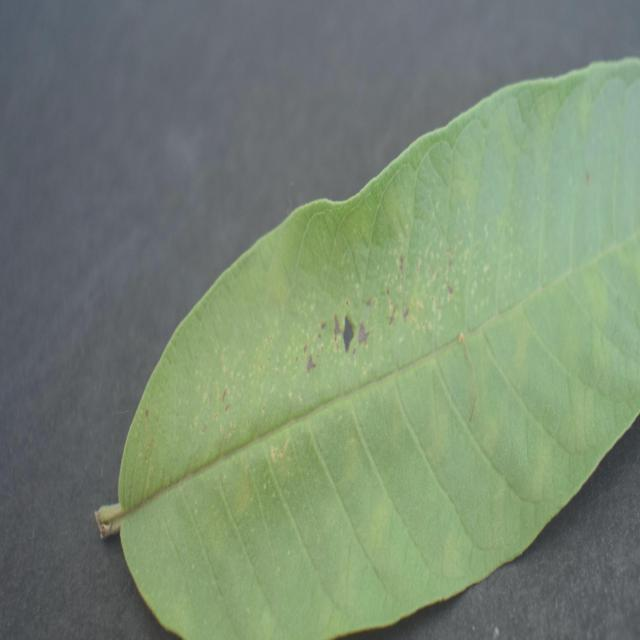Dot: (98, 60, 640, 638)
